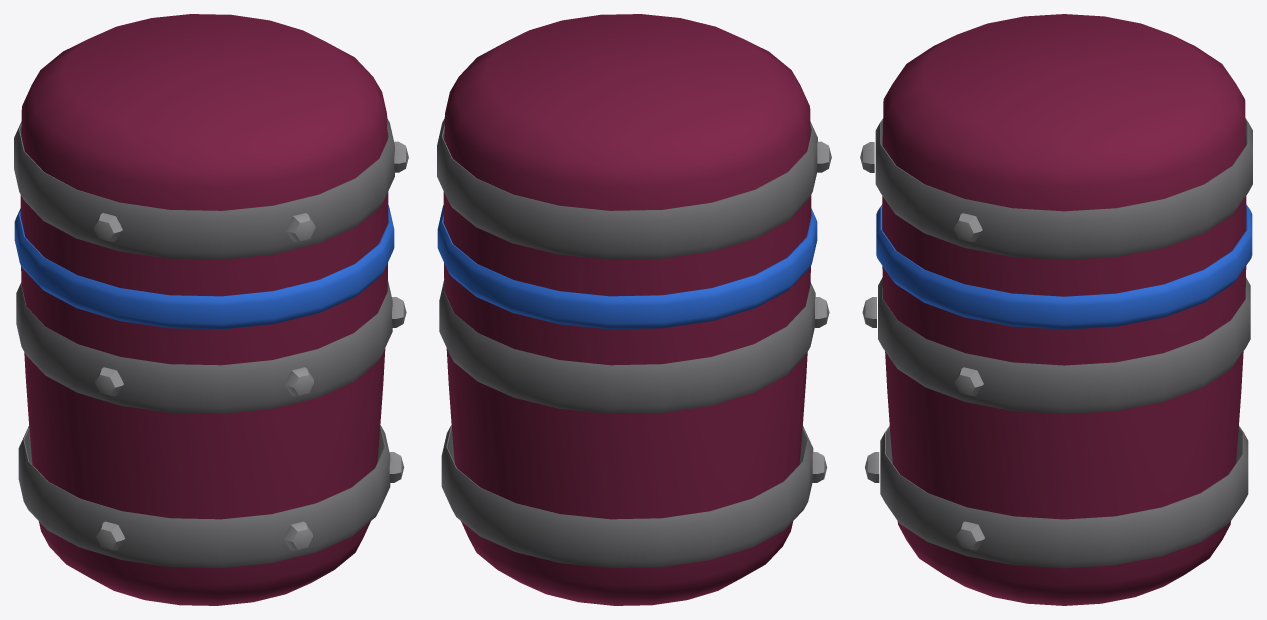
Rendered from Kit_Limb_Thick_S.glb.
3 views of the same model, side by side, from view 1: azimuth 30°, elevation 25°; view 2: azimuth 150°, elevation 25°; view 3: azimuth 270°, elevation 25° (orthographic).
Visible parts, largest first — view 1: Kit_Limb_Thick_S; view 2: Kit_Limb_Thick_S; view 3: Kit_Limb_Thick_S.
Part boxes in pixels (<box>): Kit_Limb_Thick_S: <box>14,14,408,605</box>; Kit_Limb_Thick_S: <box>437,14,831,605</box>; Kit_Limb_Thick_S: <box>860,14,1252,605</box>.
Size of the model in its own units: 0.1718 by 0.241 by 0.1771.
